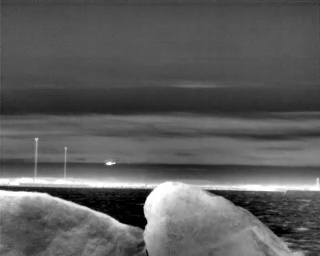HELICOPTER: (103, 157, 119, 169)
